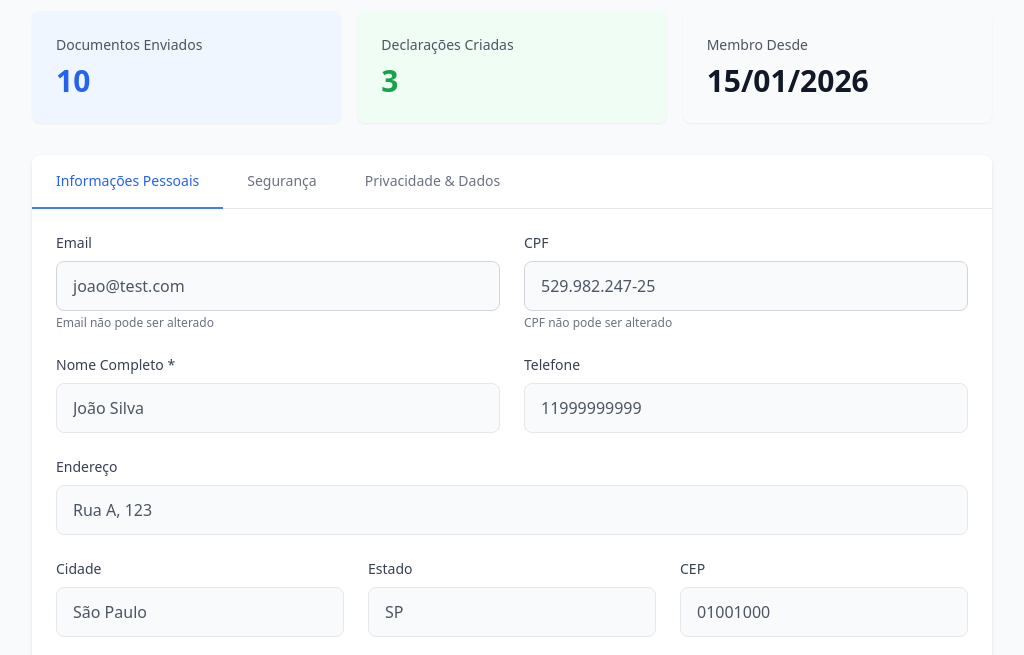
Test: ProfilePage › shows delete confirmation and cancels
Check: the button "Informações Pessoais" is shown, box [32,155,223,209]
Click the button "Privacidade & Dados": click(432, 182) [341,155,524,209]
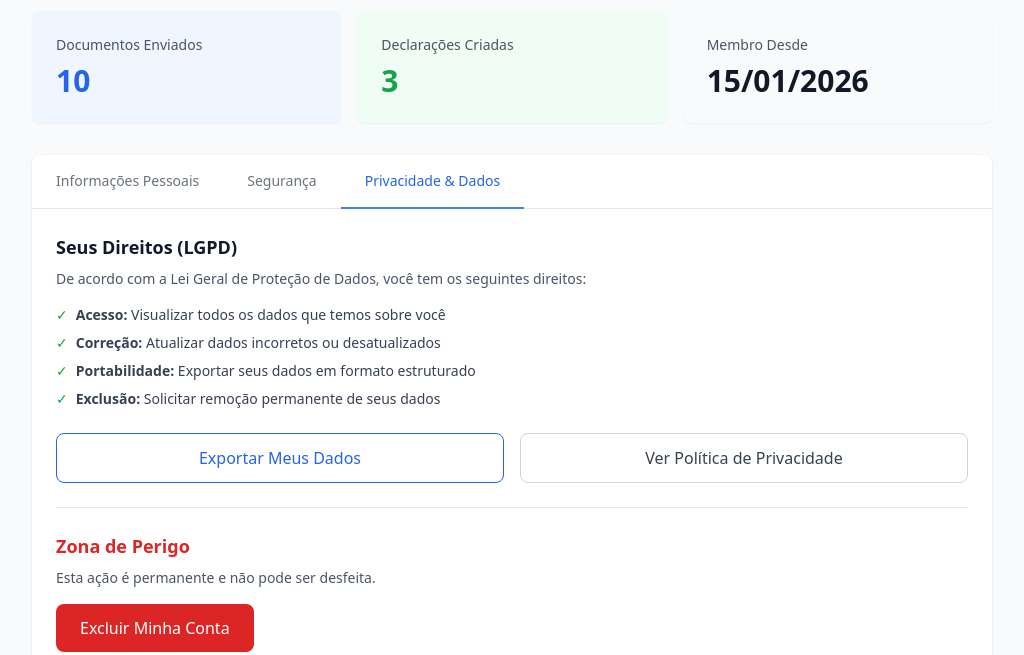
Check: the button "Excluir Minha Conta" is shown
Click the button "Excluir Minha Conta": click(155, 628) [56,604,254,652]
(page scrolled)
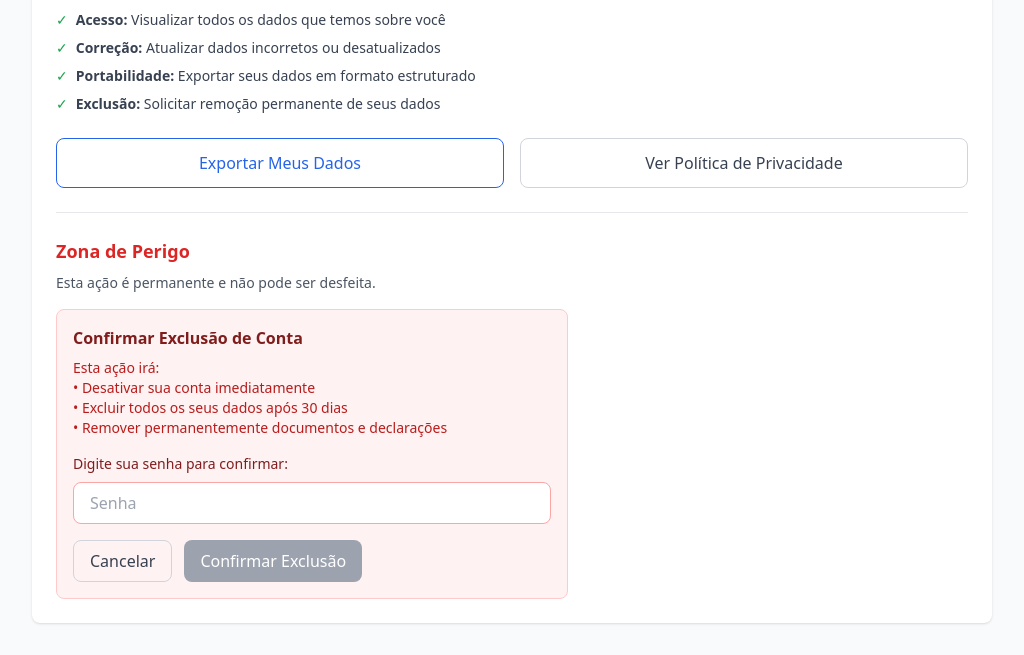
Check: the heading "Confirmar Exclusão de Conta" is shown, box [73,327,303,349]
Click the button "Cancelar": click(123, 561) [73,540,172,582]
(page scrolled)
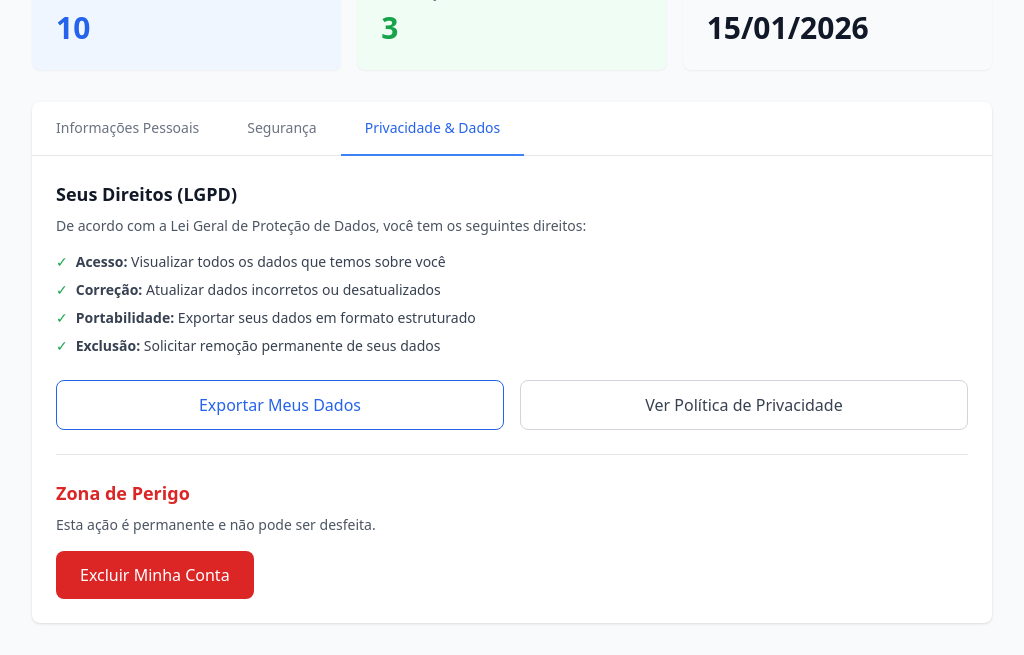
Check: the button "Excluir Minha Conta" is shown, box [56,551,254,599]
